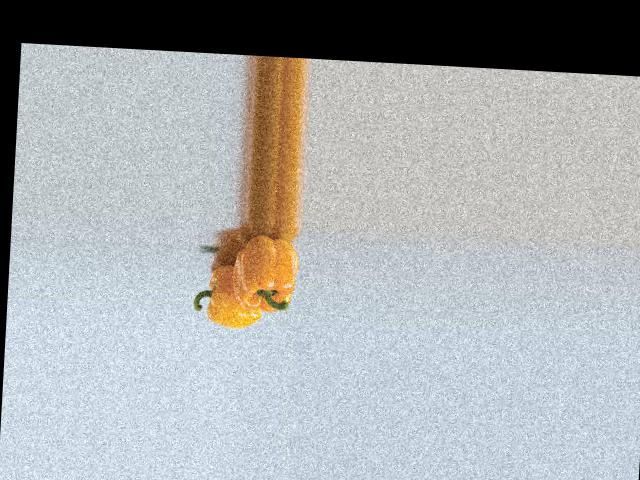bell_pepper: (193, 252, 267, 330)
